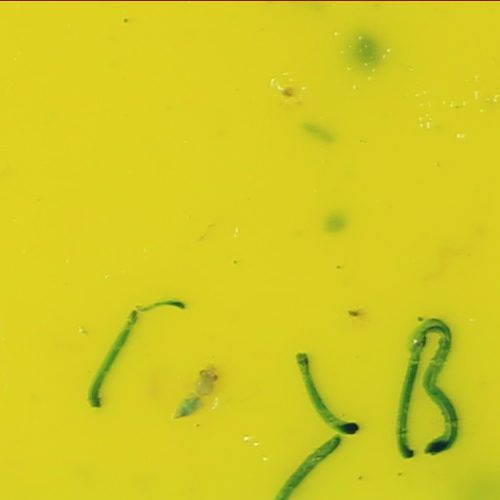psylla: (174, 365, 224, 417)
